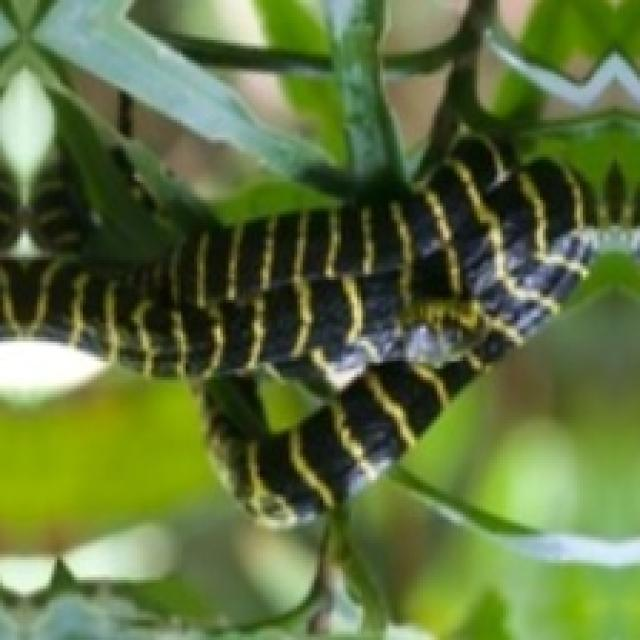mangrove cat snake: (0, 137, 637, 526)
